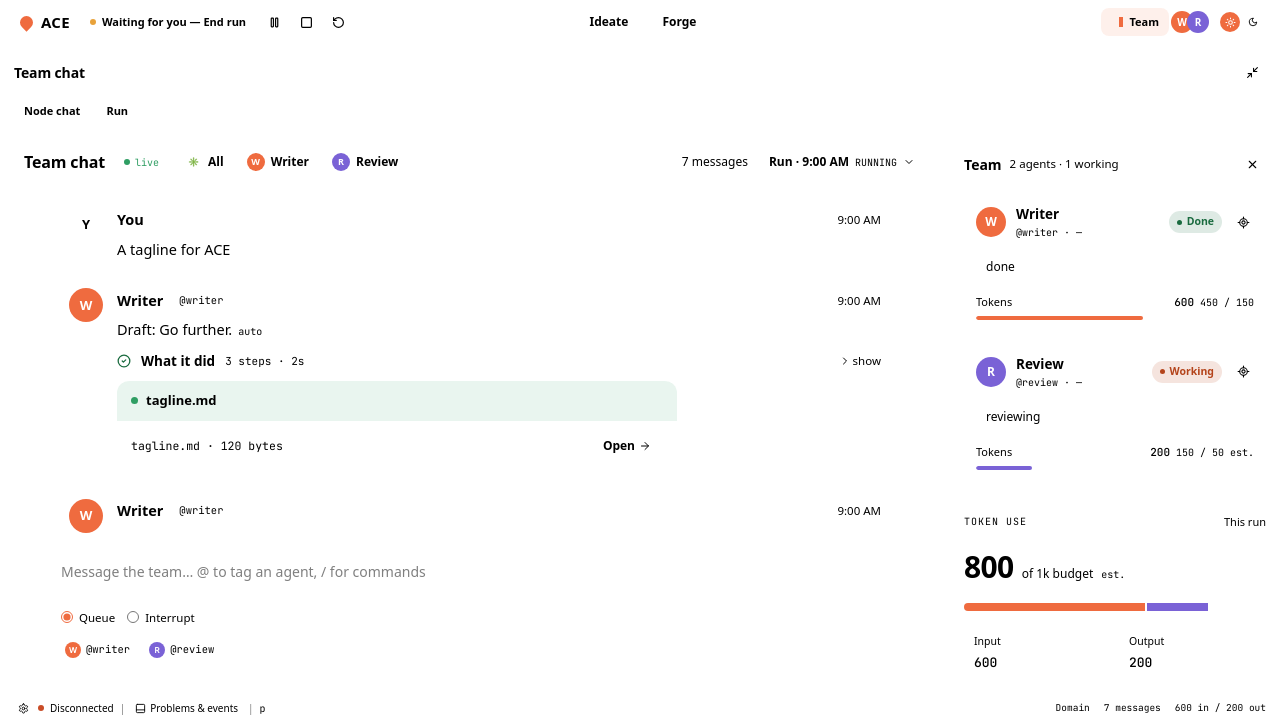
Test: Domain page › "What it did" expands to the steps with their durations, then the full output (D327)
The image size is (1280, 720).
(page scrolled)
Expected: the text "Read brief.md" is not shown
Click the button "What it did 3 steps · 2s show" at coordinates (178, 361), box [117,351,881,371]
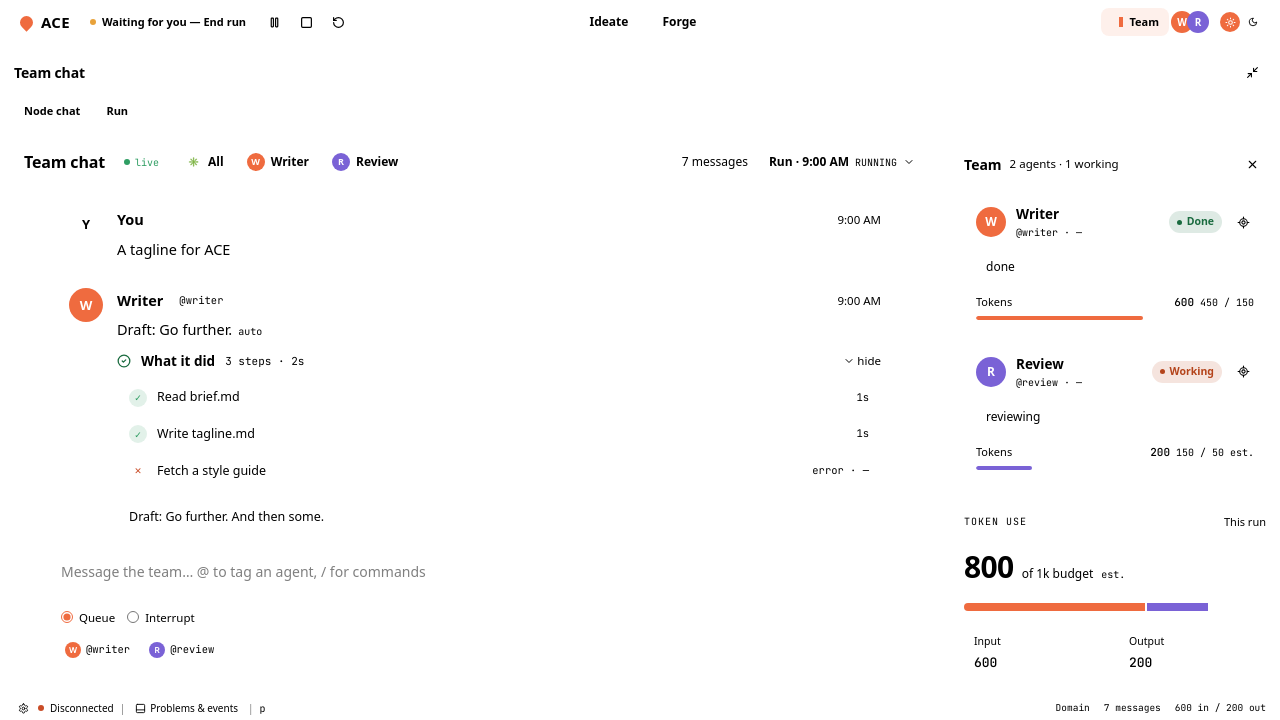
Expected: the button "What it did 3 steps · 2s hide" is expanded
Expected: the button "What it did 3 steps · 2s hide" is shown
Expected: the text "Read brief.md" is shown, [157,388,240,405]
Click the button "What it did 3 steps · 2s hide" at coordinates (178, 361), box [117,351,881,371]
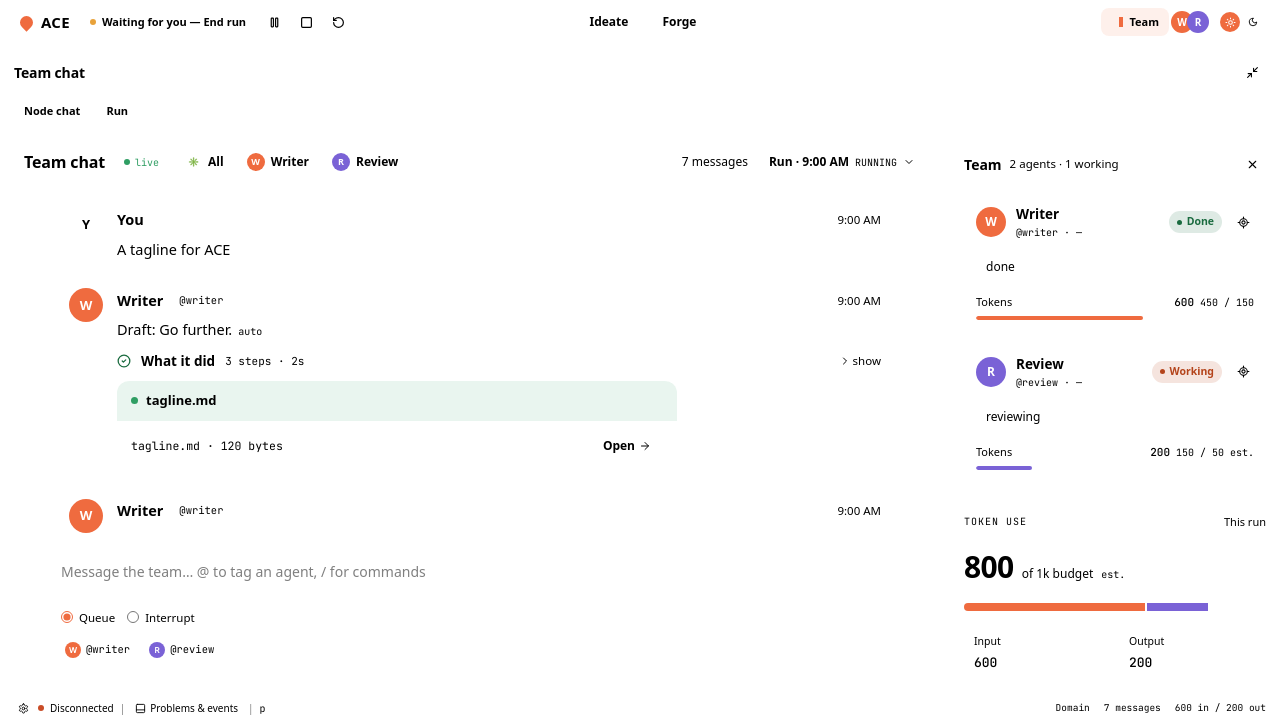
Expected: the text "Read brief.md" is gone
